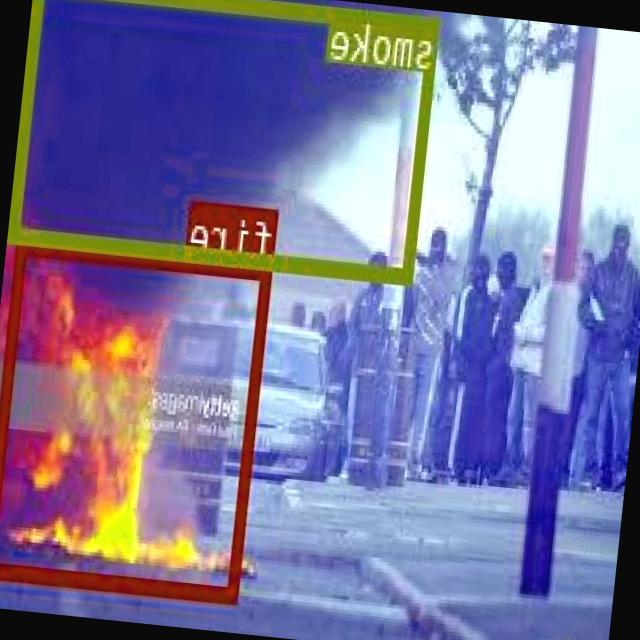fire: (0, 237, 274, 599)
smoke: (11, 0, 441, 279)
